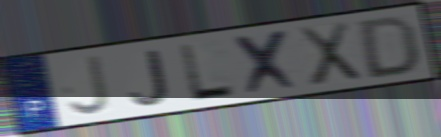D: (358, 13, 421, 81)
J: (66, 53, 113, 118), (128, 48, 171, 107)
L: (177, 41, 239, 102)
X: (231, 27, 304, 98), (295, 19, 364, 89)
